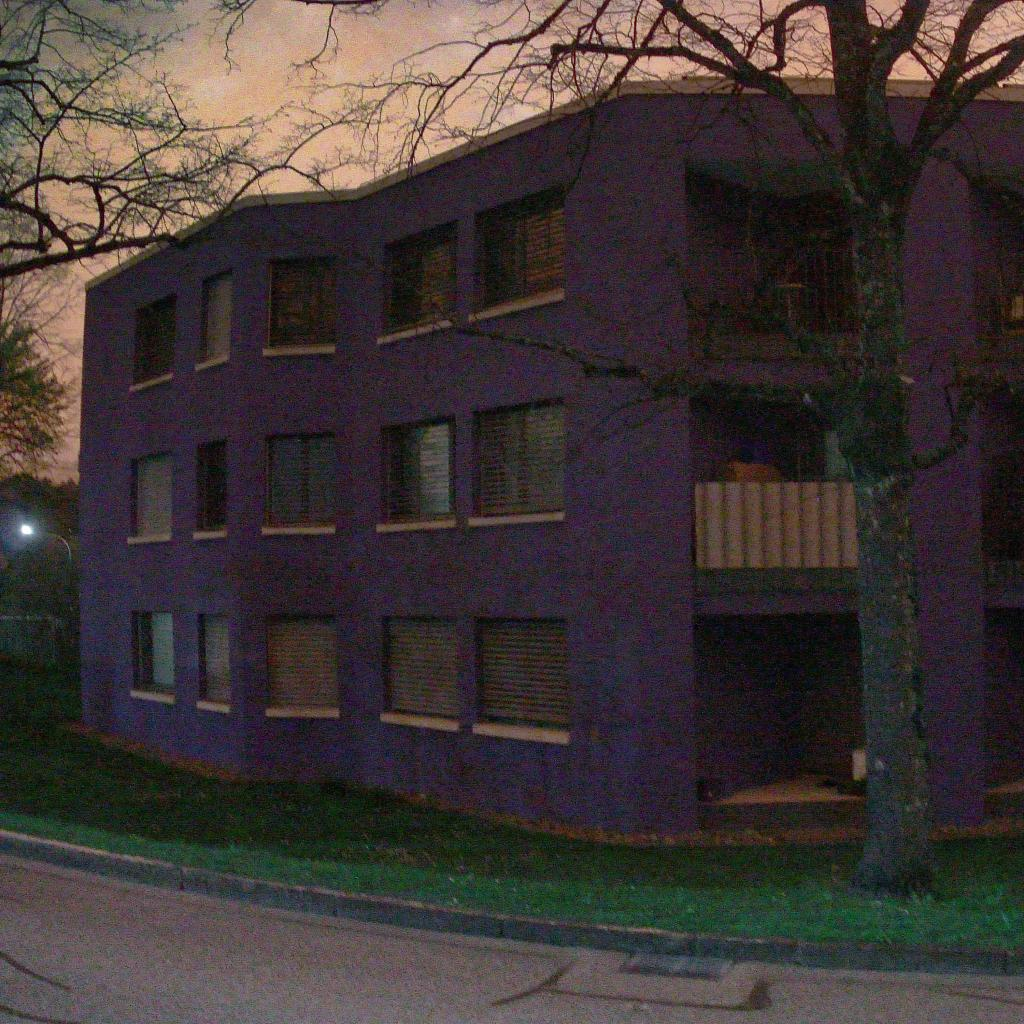balcony-fence: (693, 479, 857, 568), (750, 245, 860, 333)
facade: (76, 74, 1024, 845)
street: (0, 826, 1024, 1024)
window: (470, 184, 565, 314), (472, 396, 565, 518), (475, 616, 570, 732), (380, 218, 457, 336), (379, 414, 455, 523), (383, 615, 460, 720), (263, 432, 336, 527), (266, 614, 339, 707), (266, 256, 337, 347), (131, 291, 177, 385), (129, 451, 172, 538), (132, 611, 175, 696), (198, 267, 233, 363), (195, 438, 228, 532), (198, 615, 230, 704)
